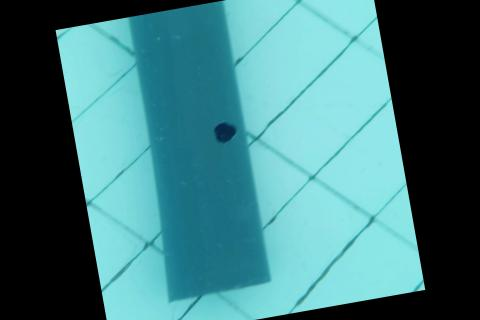kebocoran: (210, 119, 237, 144)
